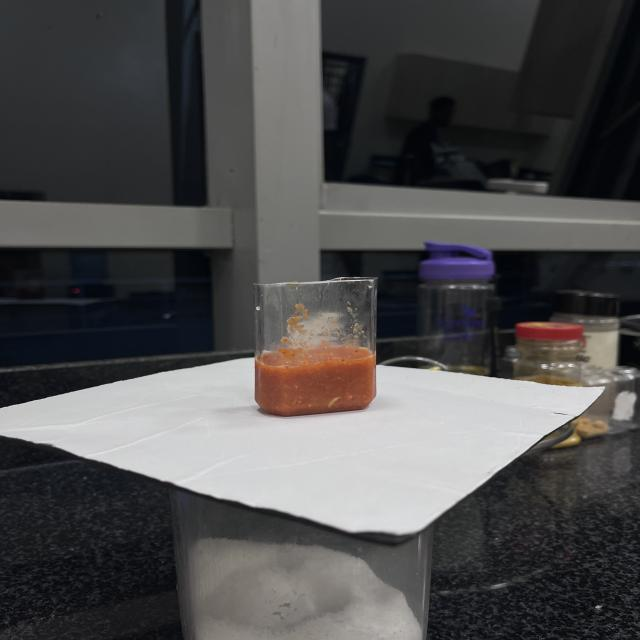blended_pepper: (256, 345, 375, 418)
